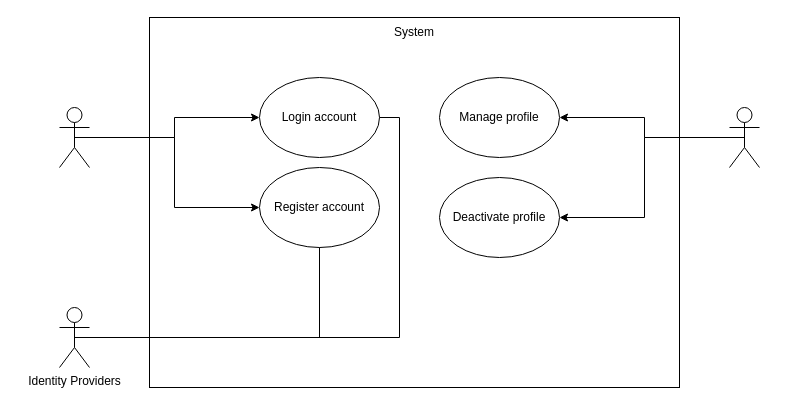
Image size: 811x406. Some labels were removed from this diagram. The centre of each missing label's shape, as x and y in pixels:
Authenticated user: (744,137)
Unauthenticated user: (74,137)
